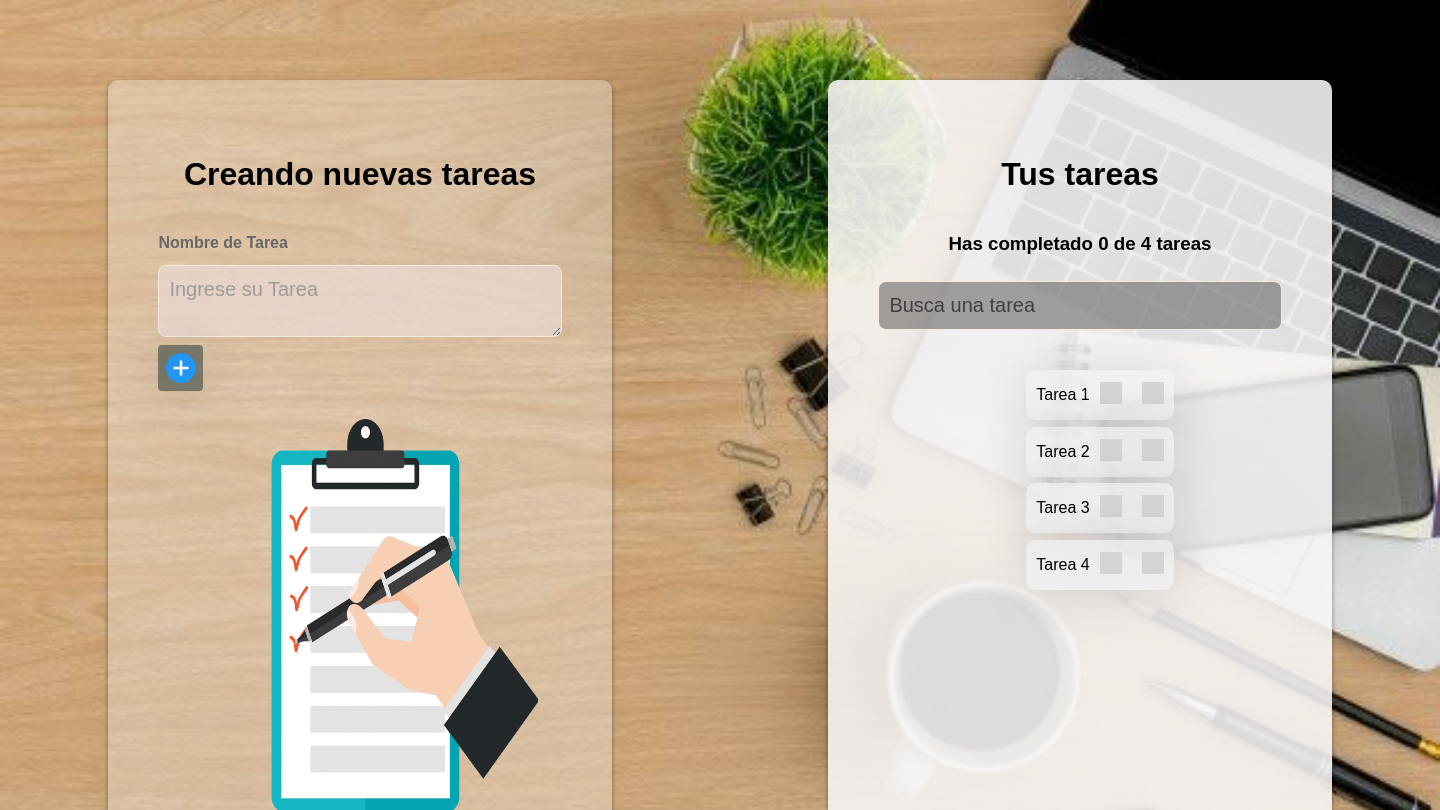
Scenario: Casos de Prueba Documentados - Validaciones, Casos Borde y Persistencia › TC013 - Texto multiidioma
Type "中文 العربية Русский" into the text box with placeholder "Ingrese su Tarea" at (360, 301), box x1=158 y1=265 x2=562 y2=337
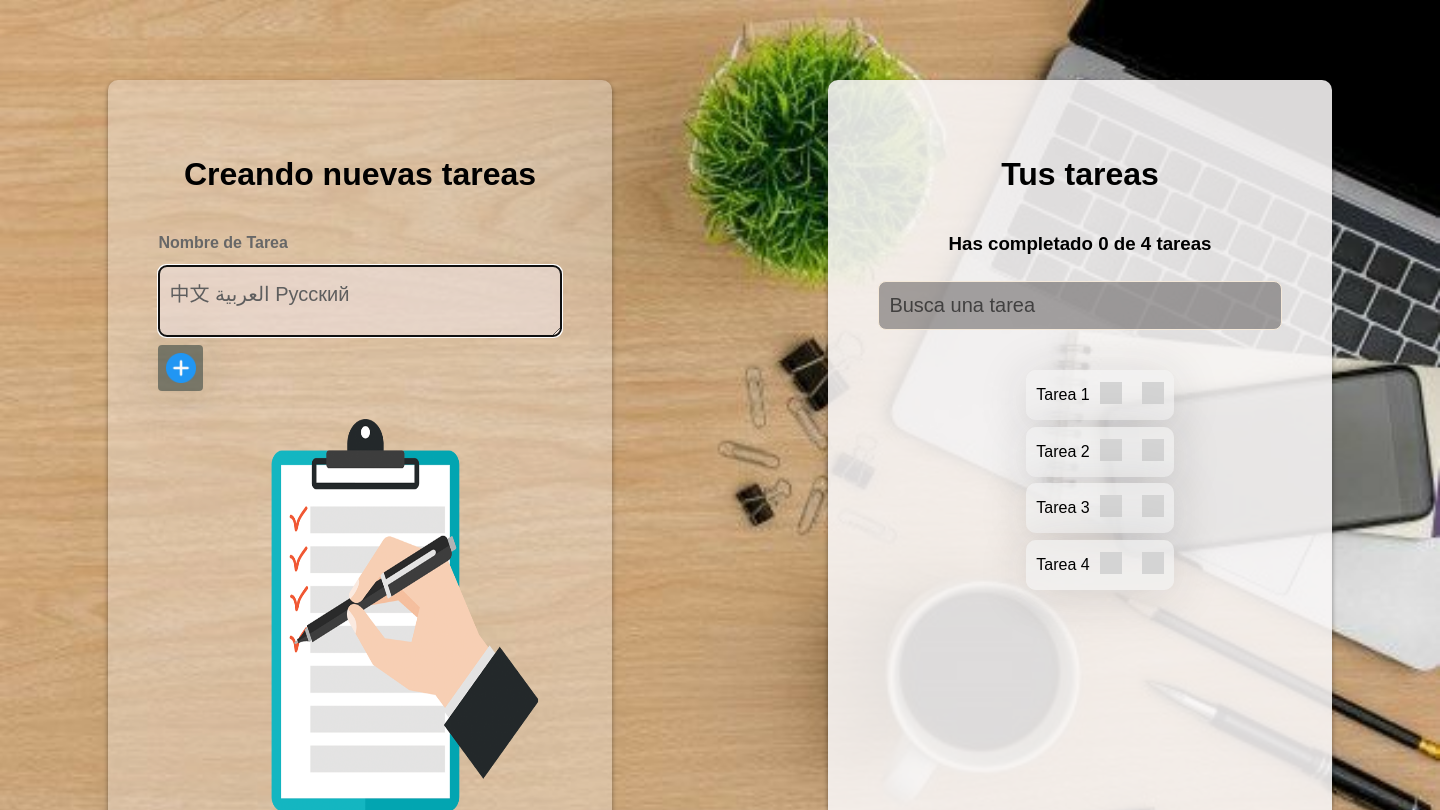
Click the button at (181, 368), box x1=158 y1=345 x2=203 y2=391
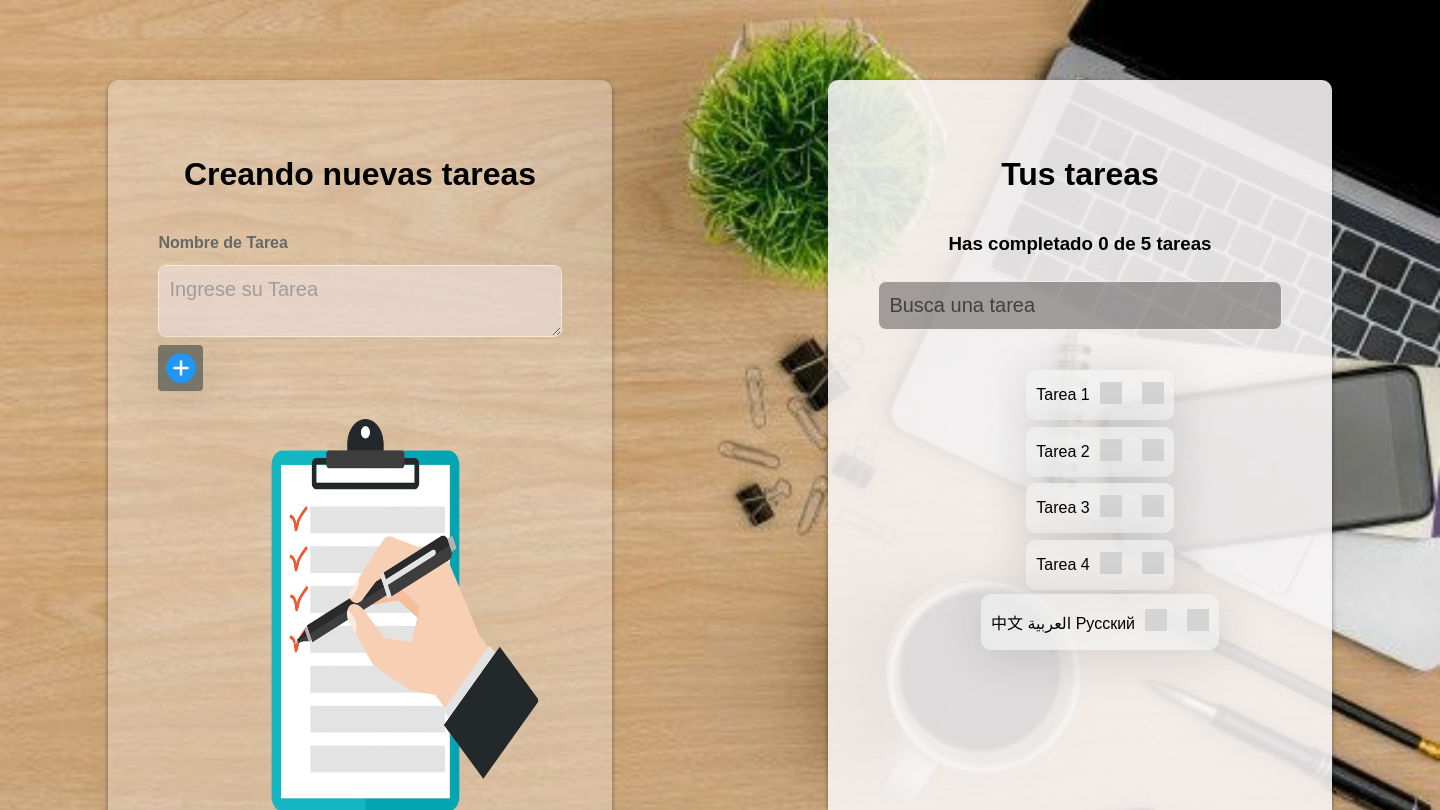
Expected: the text "中文 العربية Русский" is shown, x1=991 y1=610 x2=1135 y2=634
